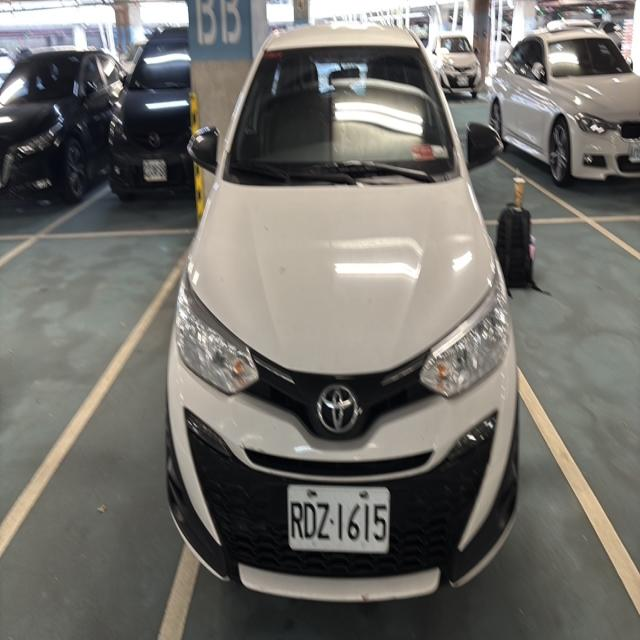license plate: (286, 485, 390, 554)
